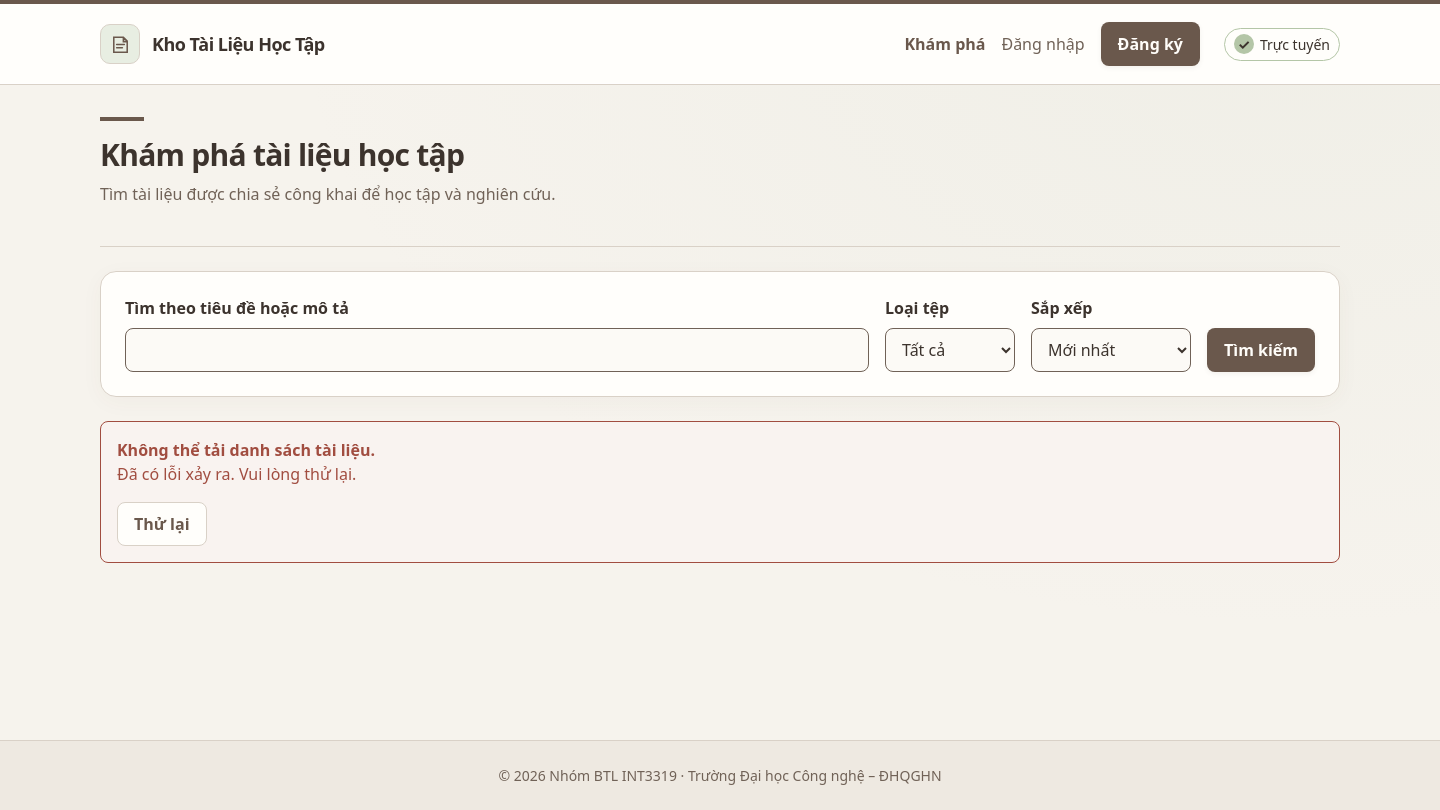
it: authentication, navigation and public discovery › handles public empty states, server failure and retry
Expected: the message shows "Không thể tải danh sách tài liệu.", [117, 439, 375, 461]
Click the button "Thử lại" at (162, 524), box [117, 502, 206, 546]
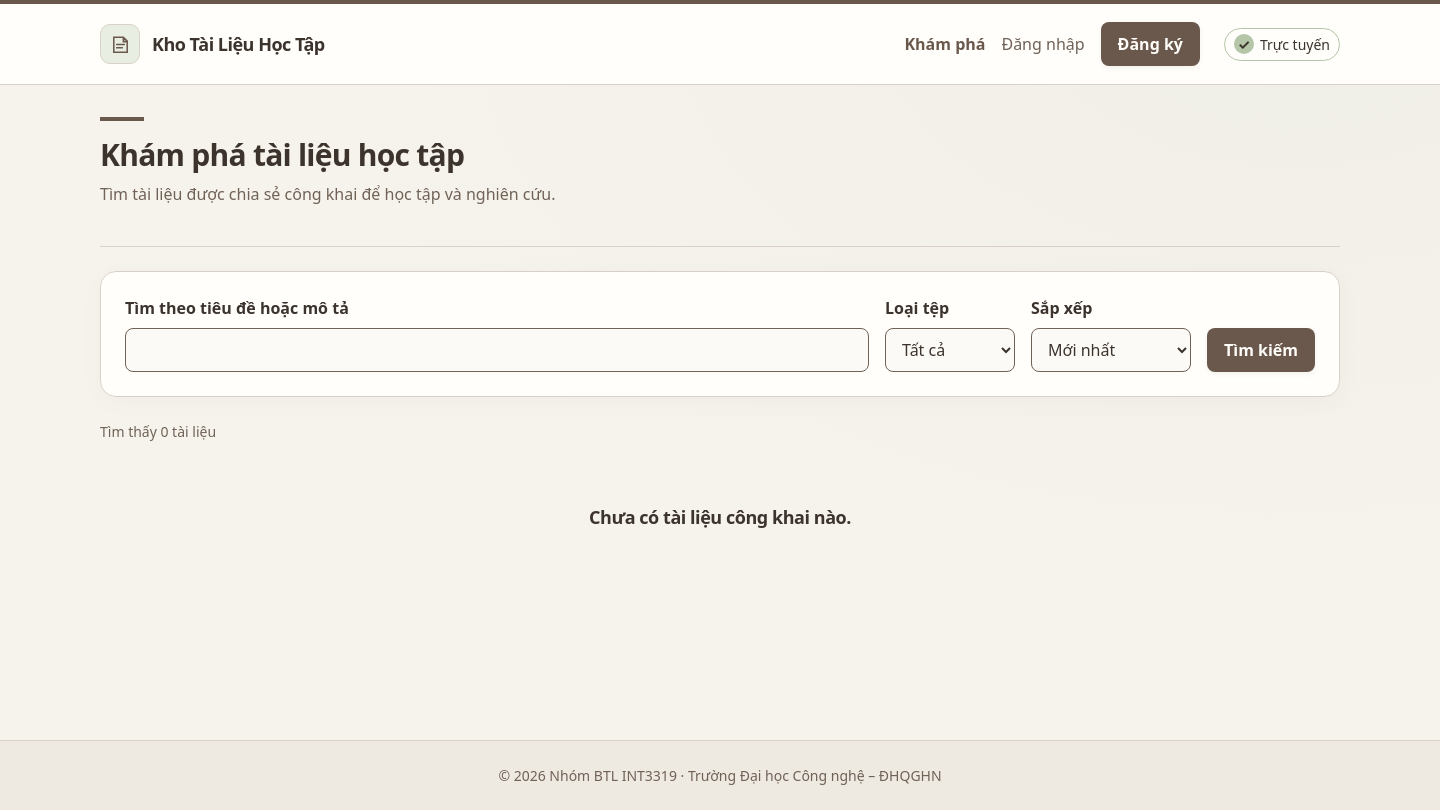
Expected: the heading "Chưa có tài liệu công khai nào." is shown, [589, 505, 851, 529]
